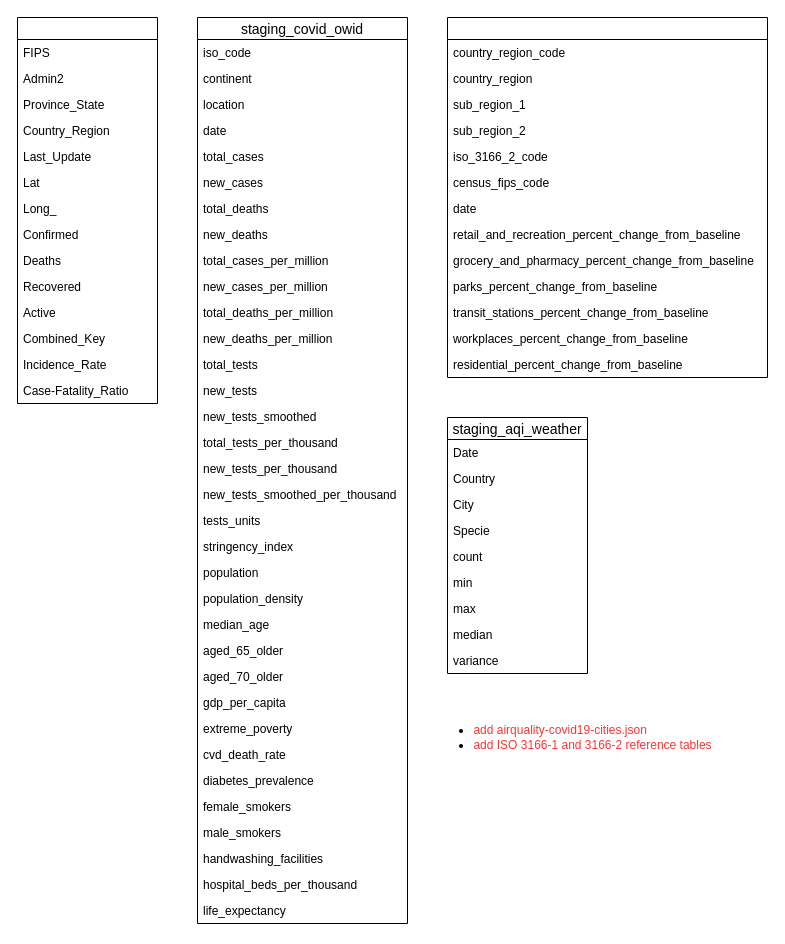
Some shapes in this 785 by 944 pixel diagram are drawn without their labels. Here are the shapes that lost their labels. From the top down, the box of each, then its label:
(16, 16, 158, 404): staging_covid_csse
(446, 16, 768, 378): staging_mobility
